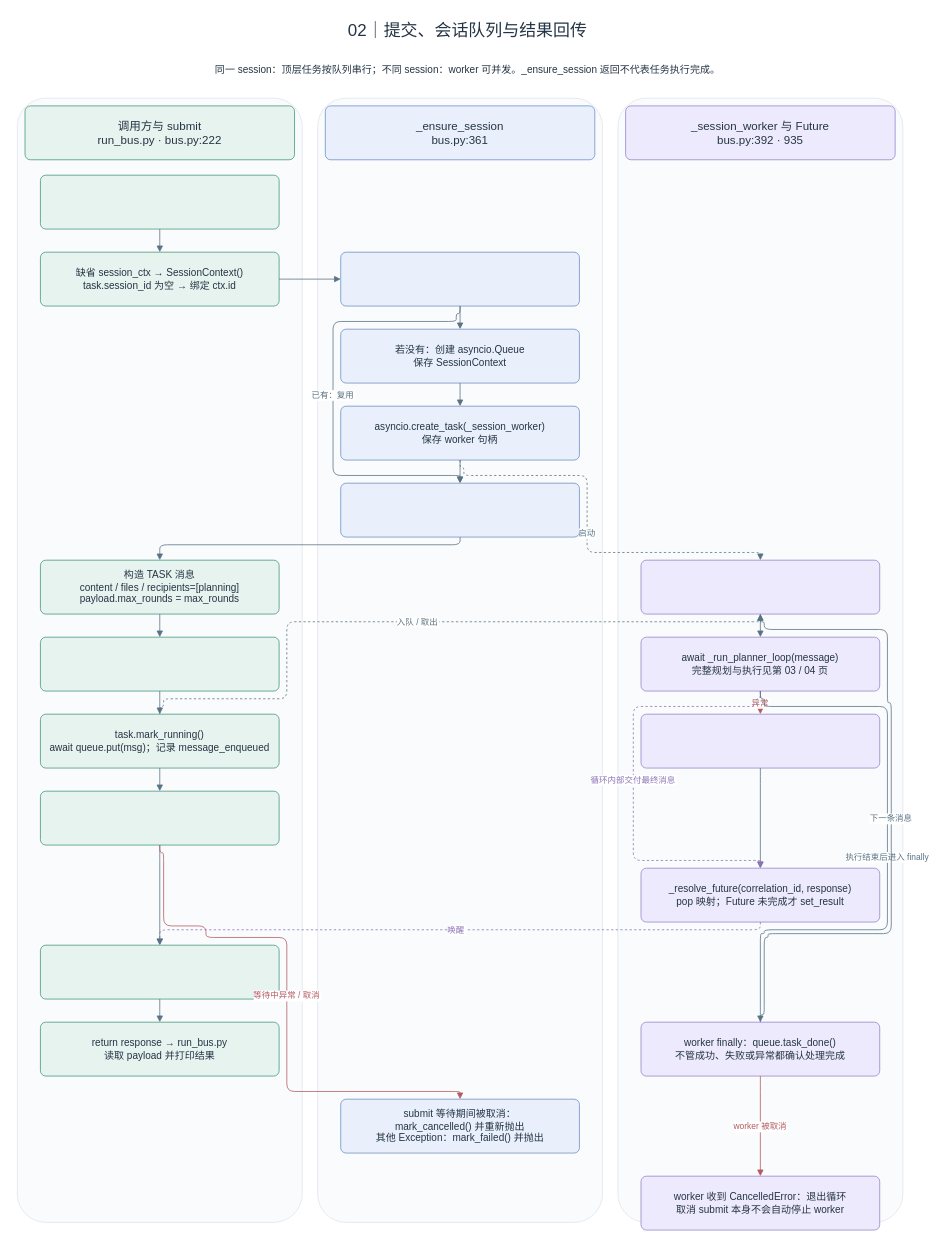
This 943x1244 diagram has some shape labels left out. Each missing label, with the centre of its shape:
_ensure_session：async with lock 检查 session_id 是否已有队列: point 459,278
response = await future 当前协程挂起，让出执行权: point 159,817
run_bus.py：await bus.submit(...): point 159,201
submit 获得 BusMessage ERROR → mark_failed() 否则 → mark_done(): point 159,971
worker while True message = await queue.get(): point 760,586
创建 Future _pending_responses[correlation_id] = future: point 159,663
已有则复用；释放锁并返回: point 459,509
捕获未处理 Exception 构造 ERROR 并 _resolve_future(): point 760,740
